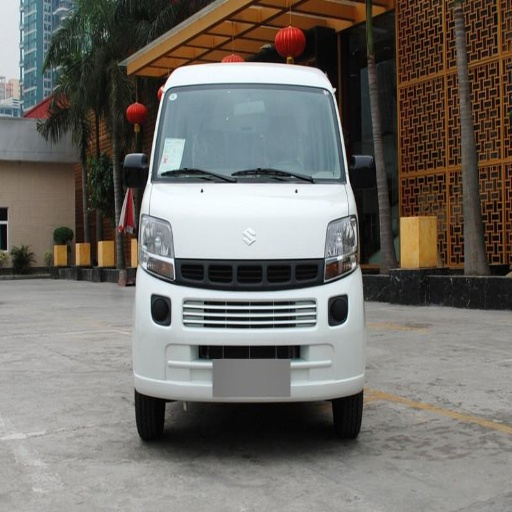front_bumper: (137, 258, 364, 403)
front_right_light: (139, 219, 177, 281)
hood: (149, 183, 352, 258)
